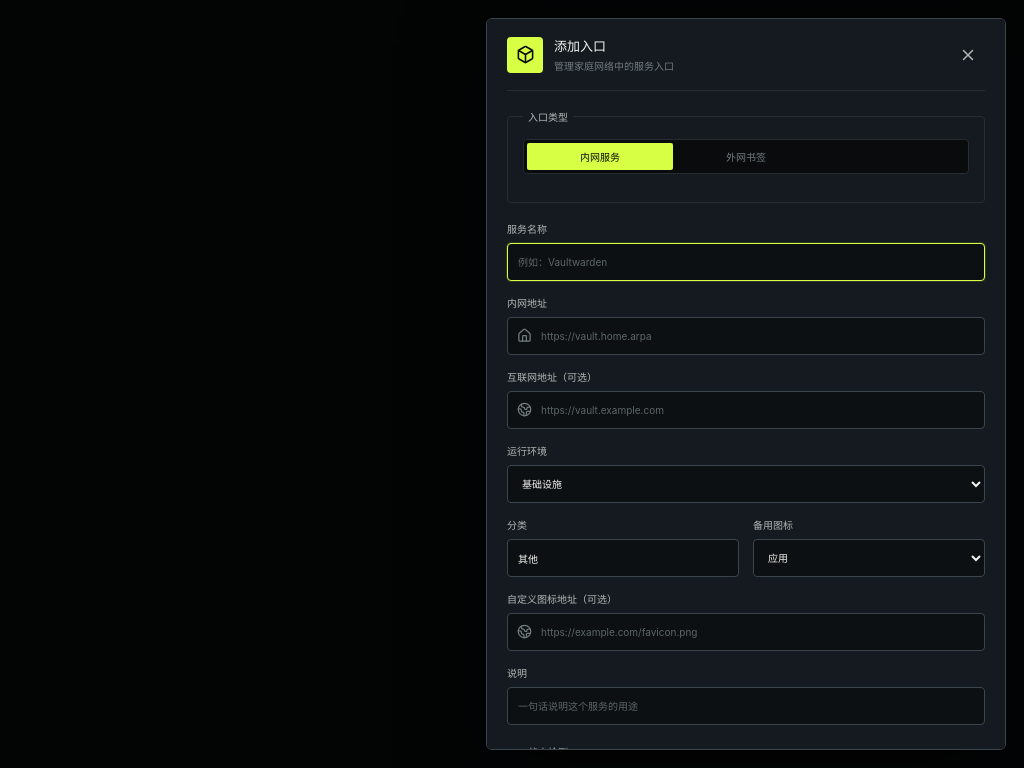
ServiceDialog › validates an external bookmark URL as HTTP or HTTPS
Click the button "外网书签" at [746, 156], box x1=673 y1=143 x2=819 y2=170
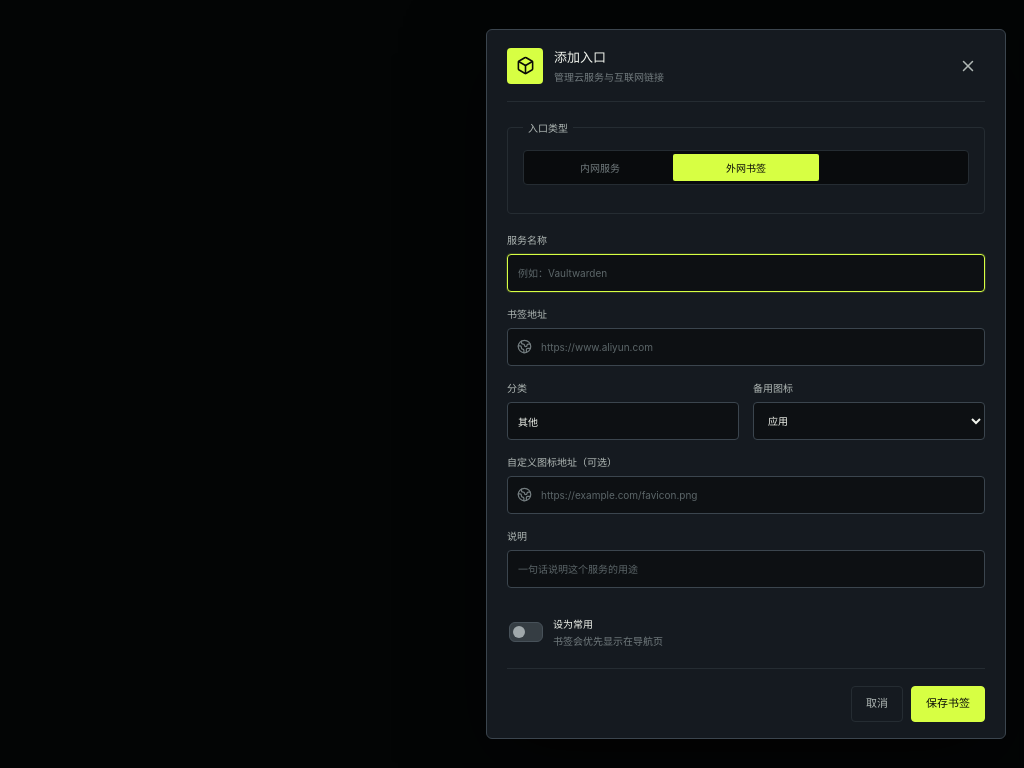
Type "阿里云控制台" into the field labelled "服务名称" at [746, 273], box x1=507 y1=254 x2=985 y2=292
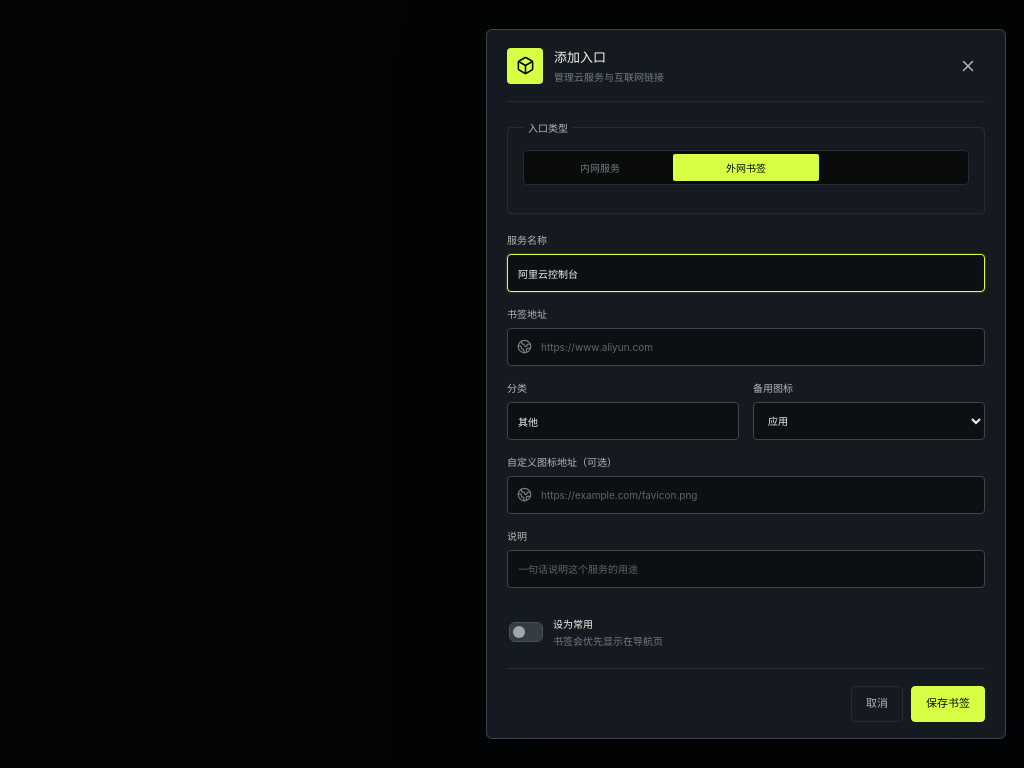
Type "file:///etc/passwd" into the field labelled "书签地址" at [746, 347], box x1=507 y1=328 x2=985 y2=366
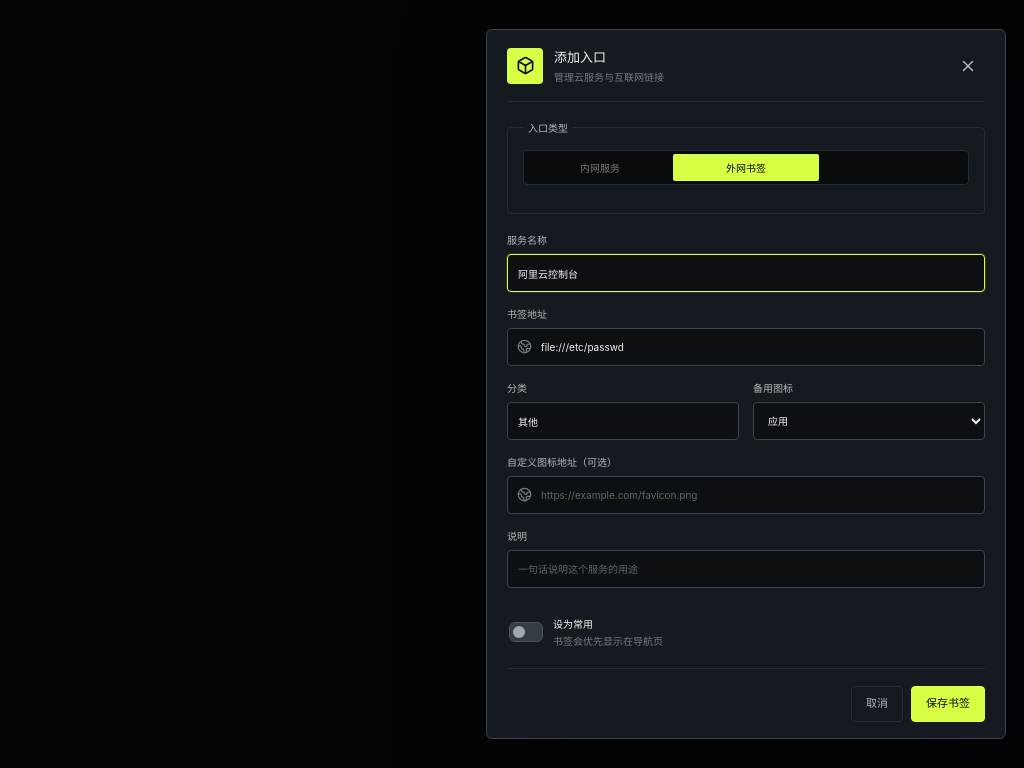
Click the button "保存书签" at [948, 704], box x1=911 y1=686 x2=985 y2=722
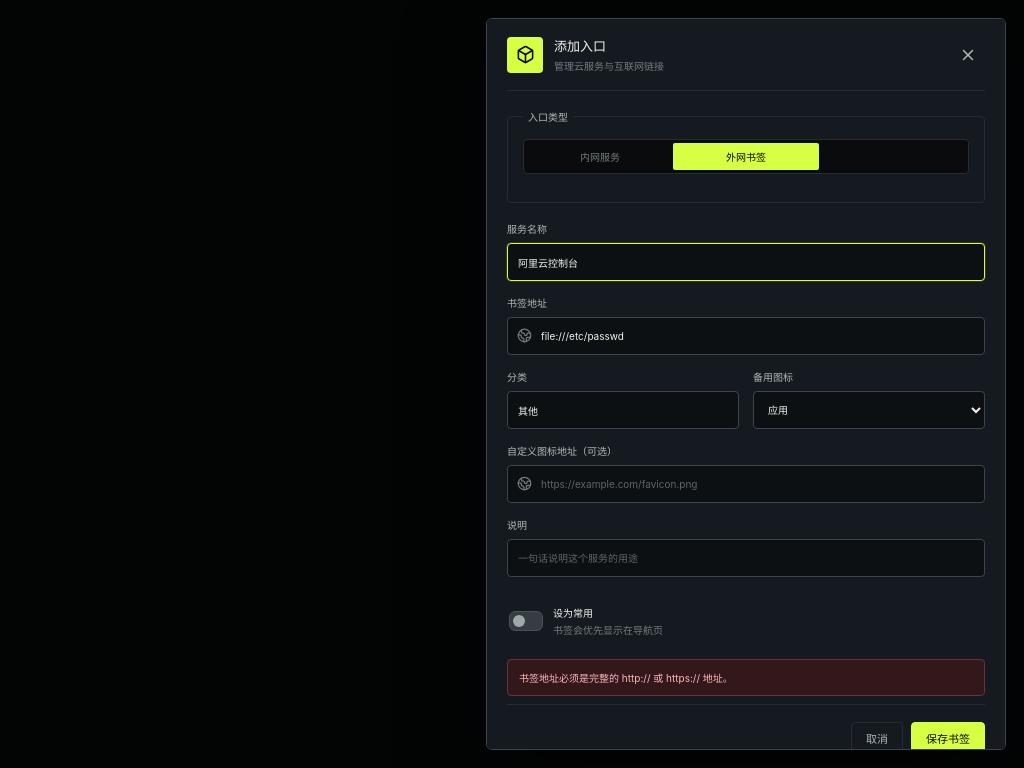
Check: the message reads "书签地址必须是完整的 http:// 或 https:// 地址。", box x1=519 y1=672 x2=733 y2=684
